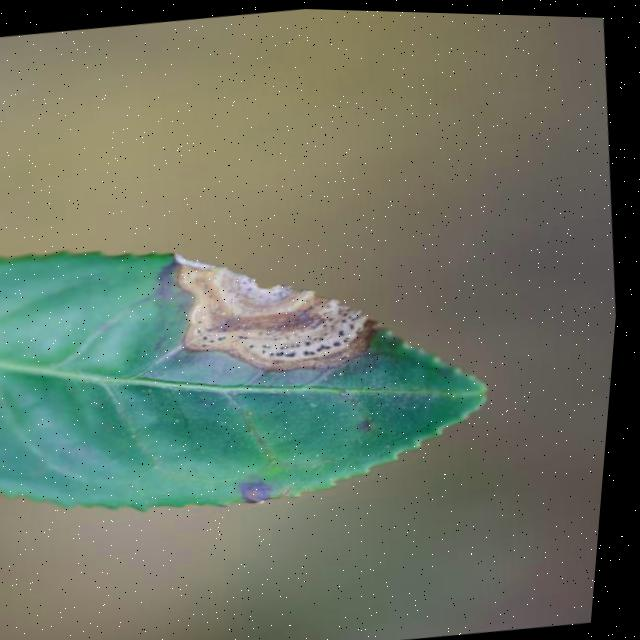Tea cloud leaf blight: (171, 226, 393, 385)
